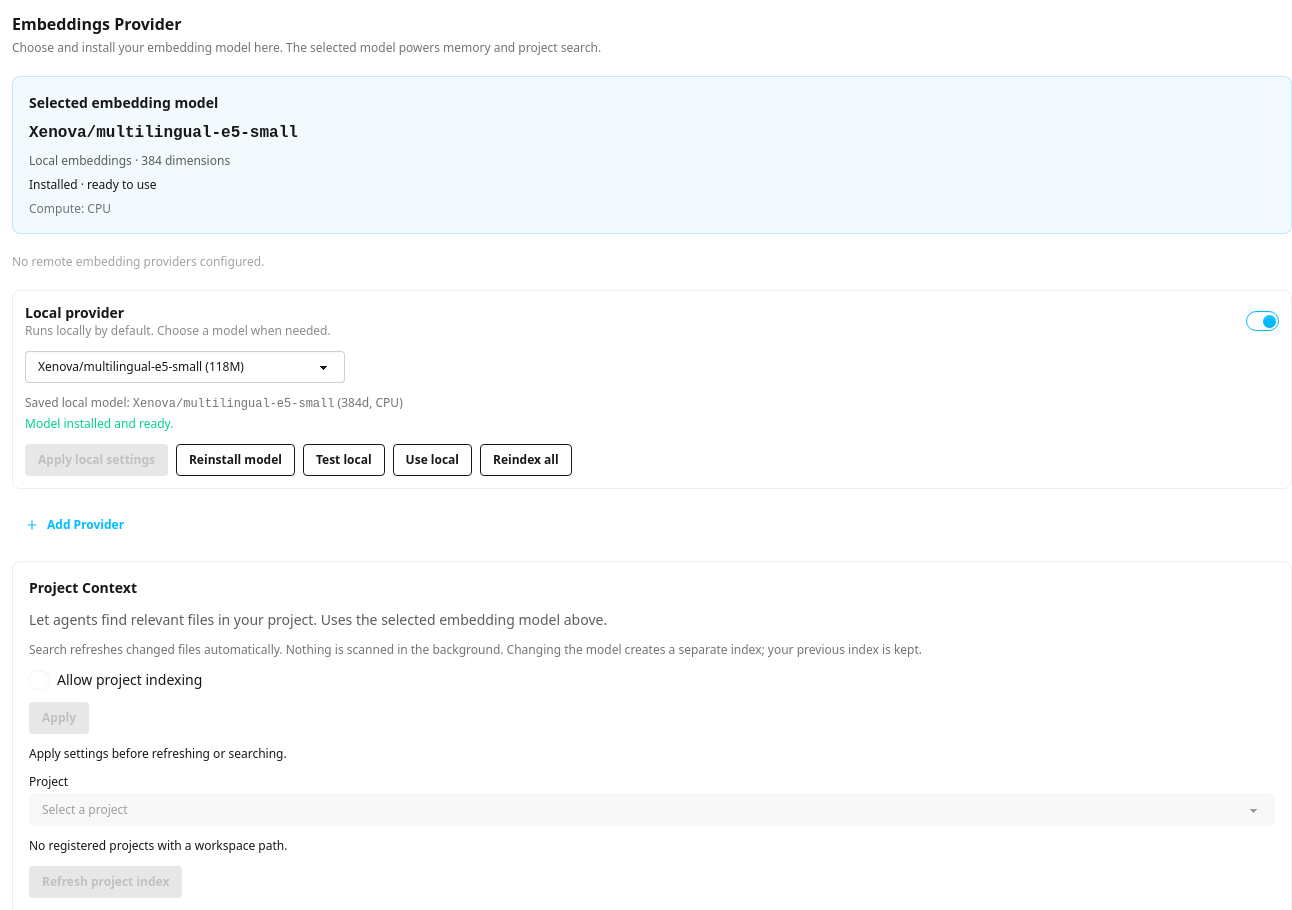
Test: EmbeddingsPanel › can request reindex for all indexed personas
This screenshot has width=1292, height=910.
Click the button with test id "embedding-reindex-all-btn". click: (526, 460)
box: [480,444,572,476]
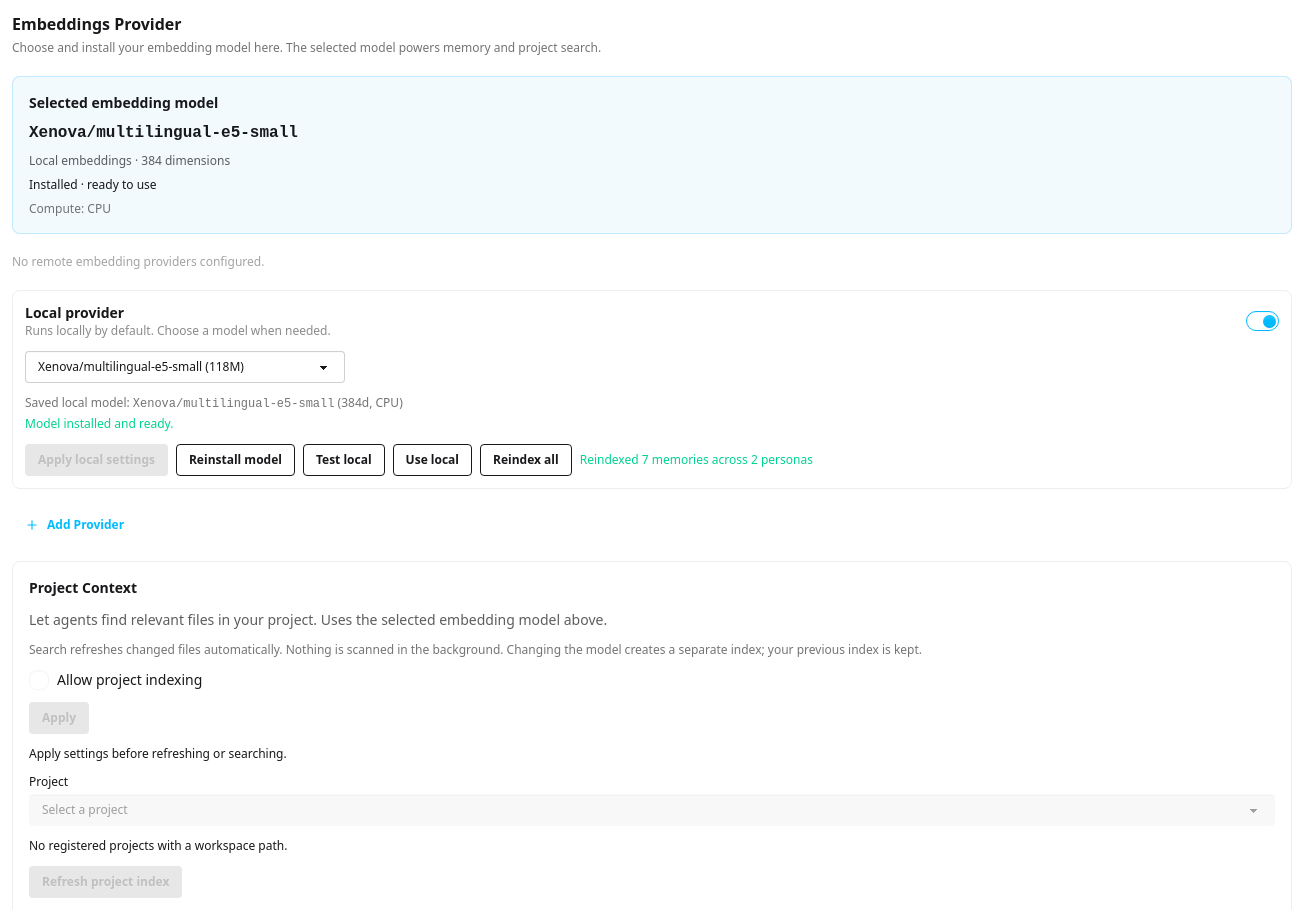
Check: the text "Reindexed 7 memories across 2 personas" is shown, box [580,452,813,468]
